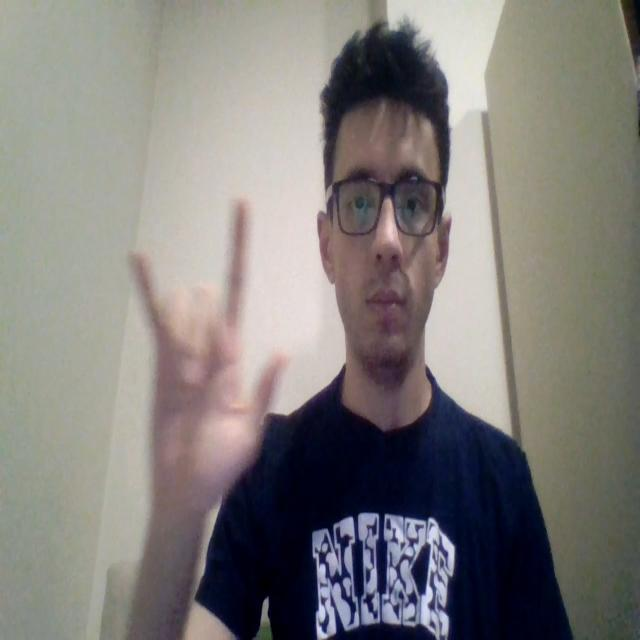iloveyou: (126, 194, 291, 524)
